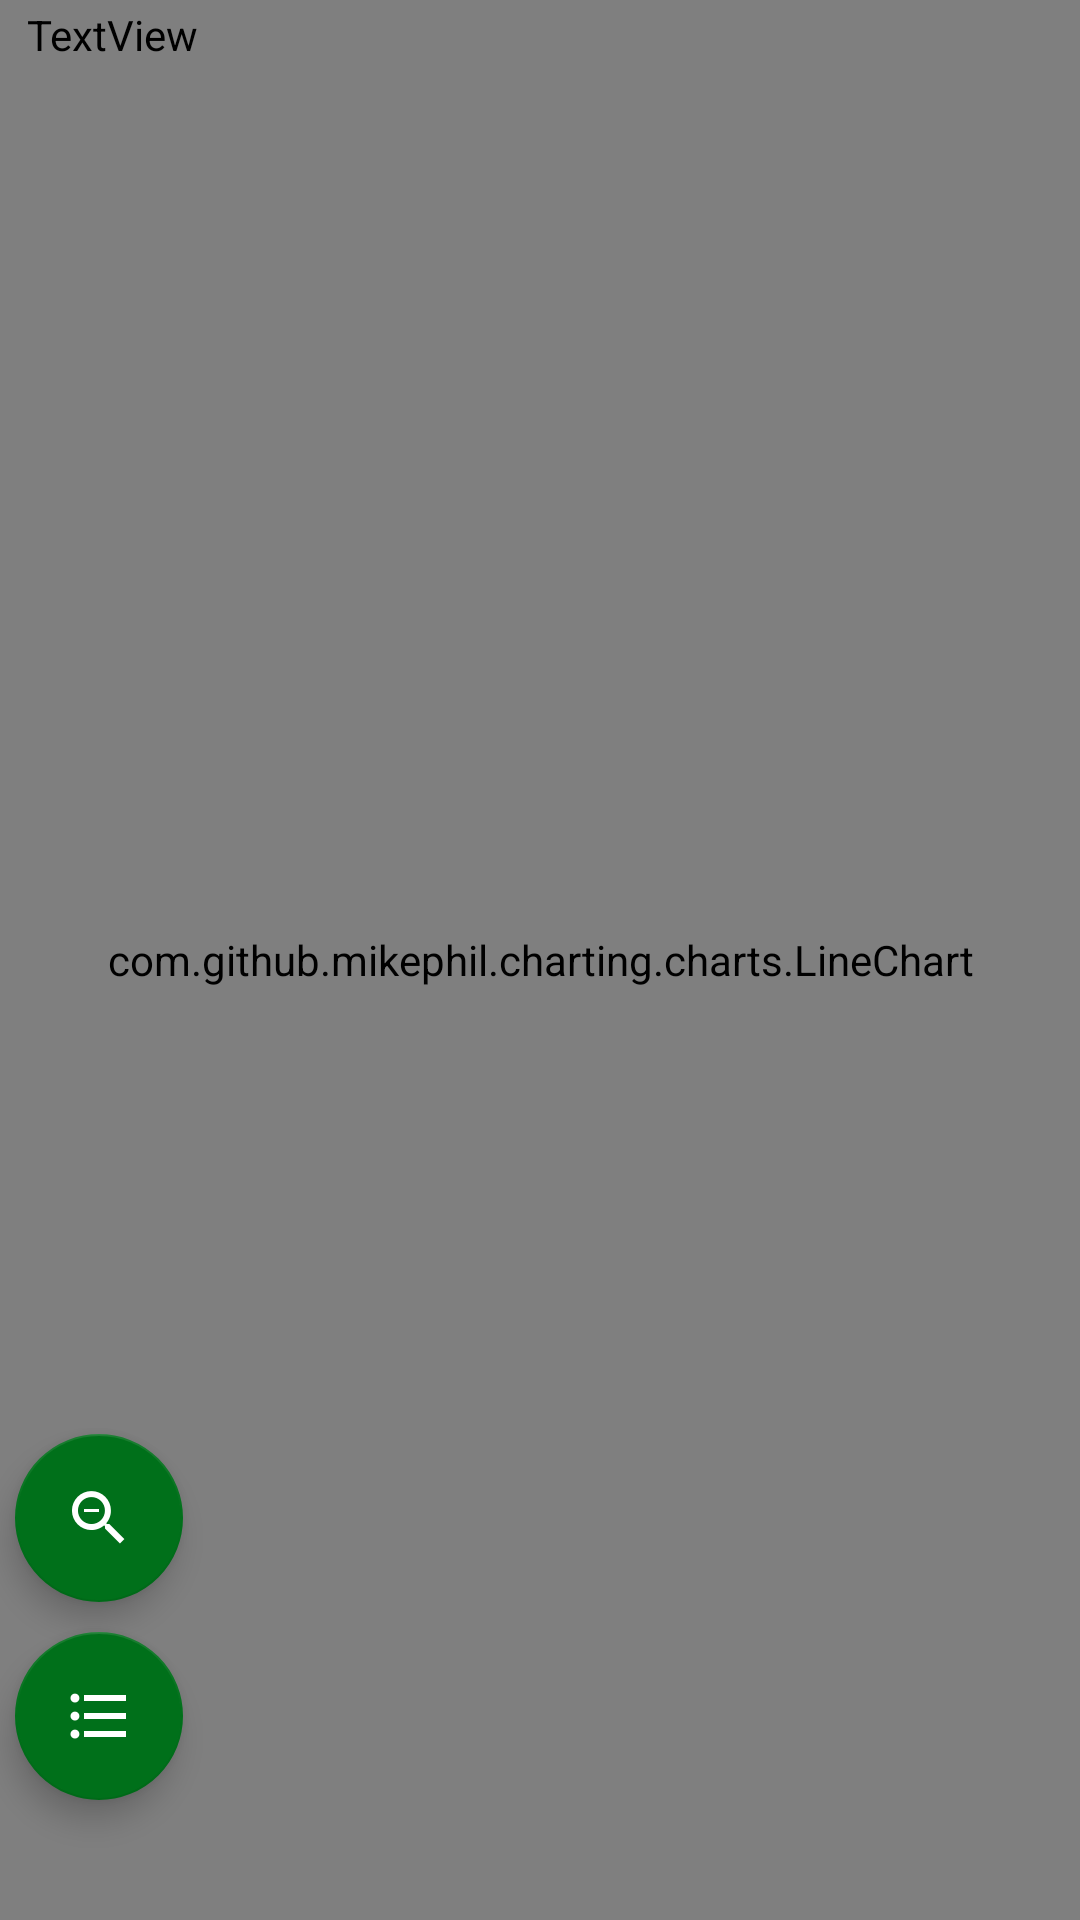

Screen size 1080x1920. Icon name, then its center in pixels as (x,y):
format list bulleted: (99,1716)
zoom out: (99,1518)
